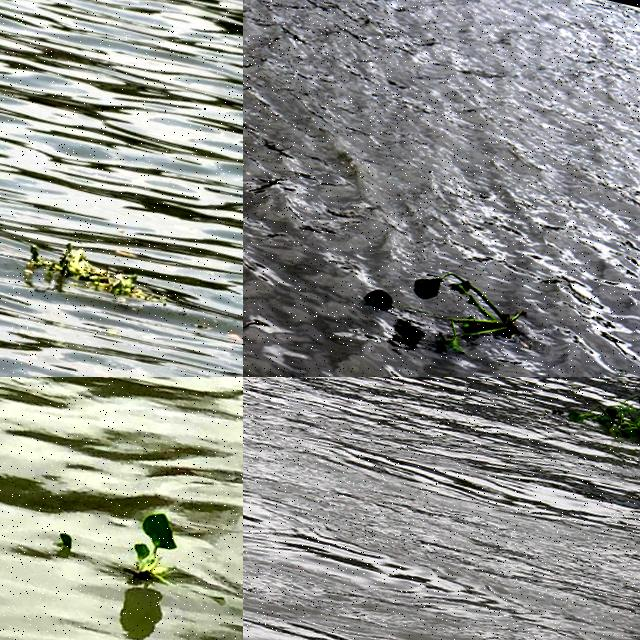water-hyacinth: (348, 249, 536, 360), (20, 229, 161, 313), (102, 501, 200, 595), (559, 378, 640, 459)
